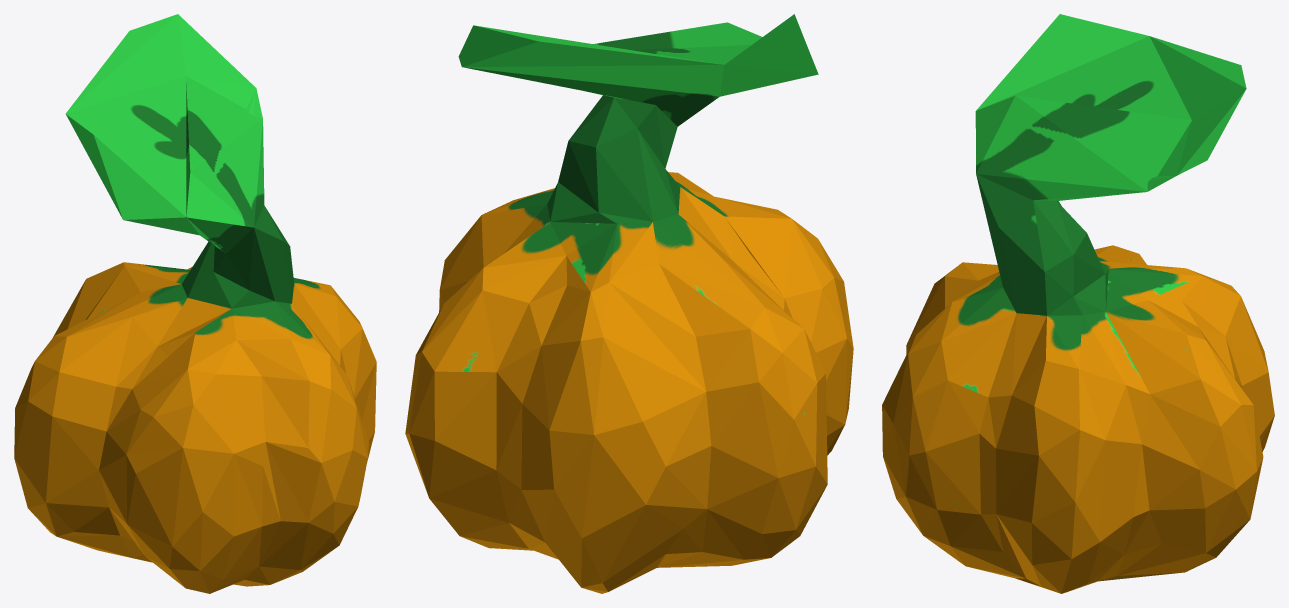
File: Pumpkin.fbx
3 renders of one model, left to right at view 1: azimuth 30°, elevation 25°; view 2: azimuth 150°, elevation 25°; view 3: azimuth 270°, elevation 25°, orthographic. The views are drawn at different scales.
Parts seen in each view (by area): view 1: Pumpkin; view 2: Pumpkin; view 3: Pumpkin.
Part boxes in pixels (<box>): Pumpkin: <box>14,14,376,593</box>; Pumpkin: <box>405,14,853,593</box>; Pumpkin: <box>882,14,1274,593</box>.
Size of the model in its own units: 433 by 598 by 423.
Materials: 1 (1 with a texture image).
